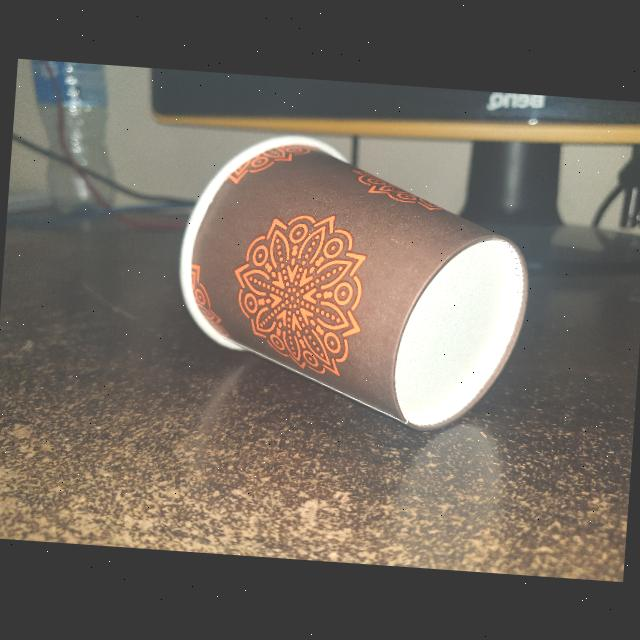trash: (163, 122, 545, 439)
